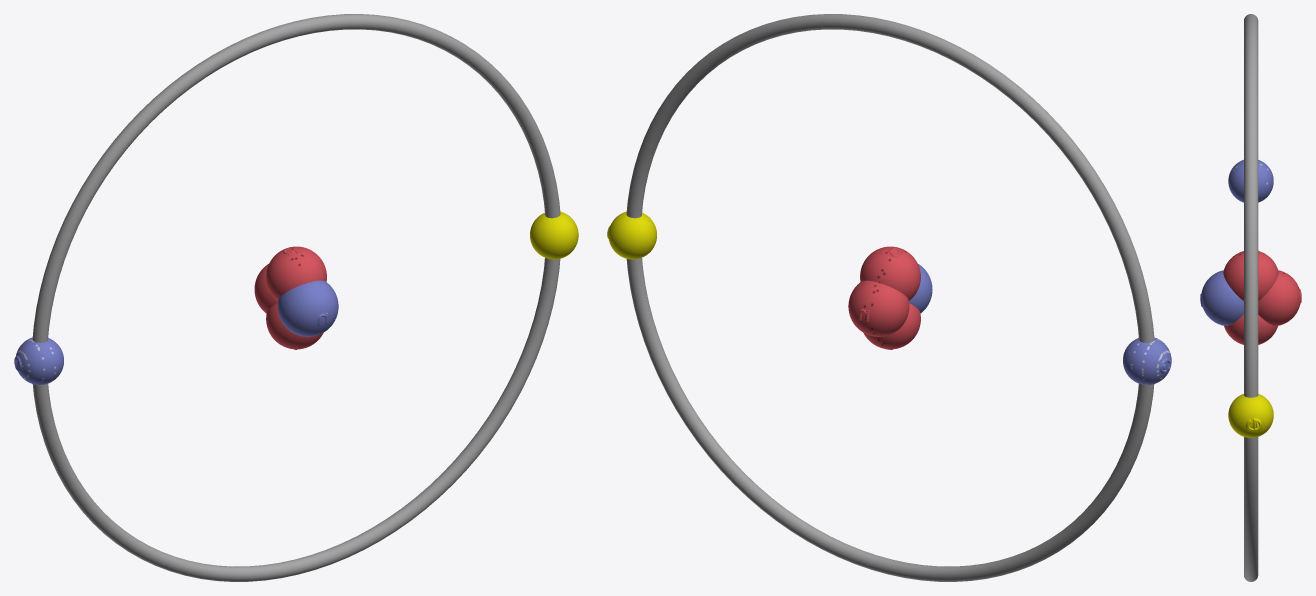
The model's file is helium.glb.
The picture shows the model from 3 angles, left to right: view 1: azimuth 30°, elevation 25°; view 2: azimuth 150°, elevation 25°; view 3: azimuth 270°, elevation 25°; orthographic projection. The views are drawn at different scales.
Parts seen in each view (by area): view 1: Helium Atom; view 2: Helium Atom; view 3: Helium Atom.
Part boxes in pixels (x1,y1,x2,y2): Helium Atom: (14,14,578,581); Helium Atom: (607,14,1171,581); Helium Atom: (1200,14,1301,581).
Bounding box in the file's own units: 58.6 × 55.36 × 9.88.
